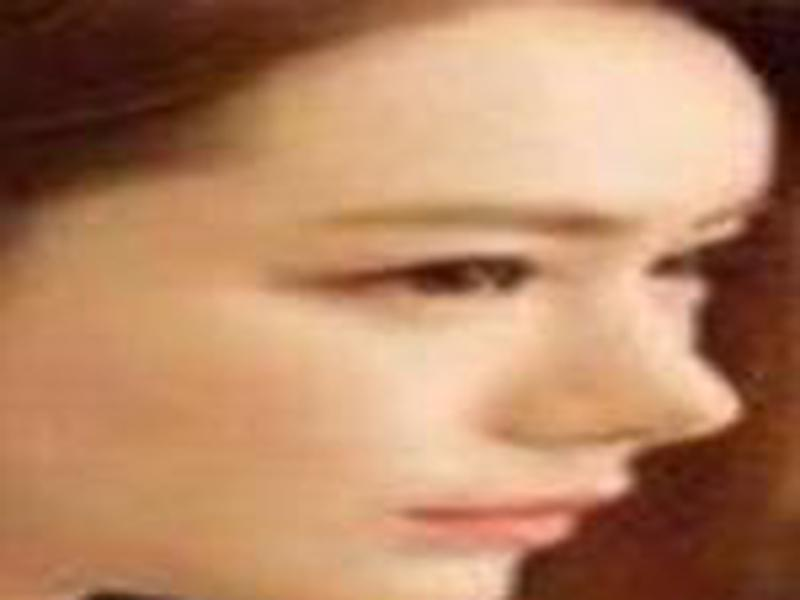without_mask: (129, 31, 776, 600)
